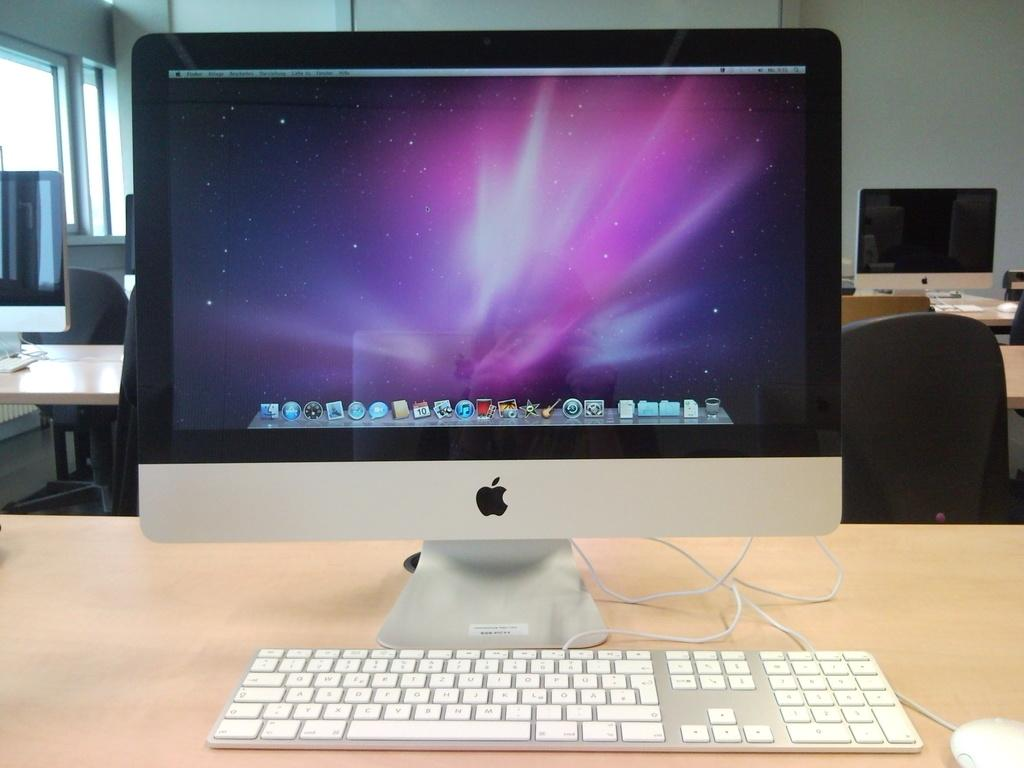Computer-keyboard: (205, 648, 922, 749)
Computer-monitor: (113, 28, 879, 607), (847, 179, 1002, 299), (0, 157, 75, 371), (120, 184, 136, 307)
